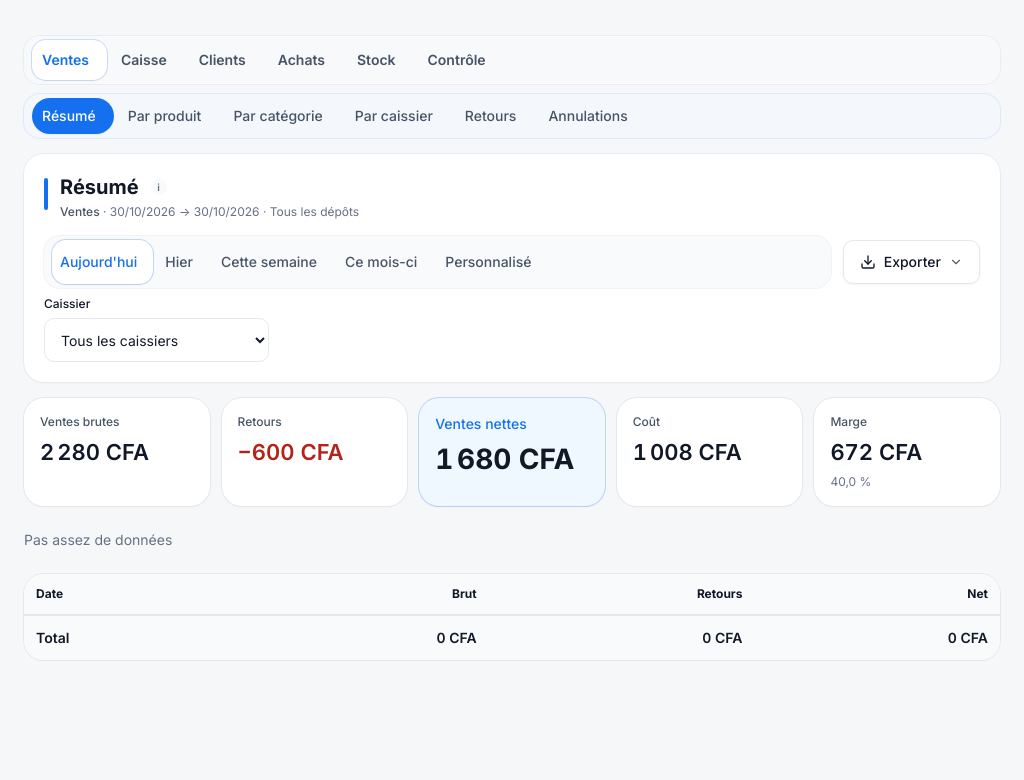
Test: ReportsPage › renders Inventory values after switching tabs
Click the tab "Stock" at (376, 60), box left=343, top=40, right=410, bottom=80
(page scrolled)
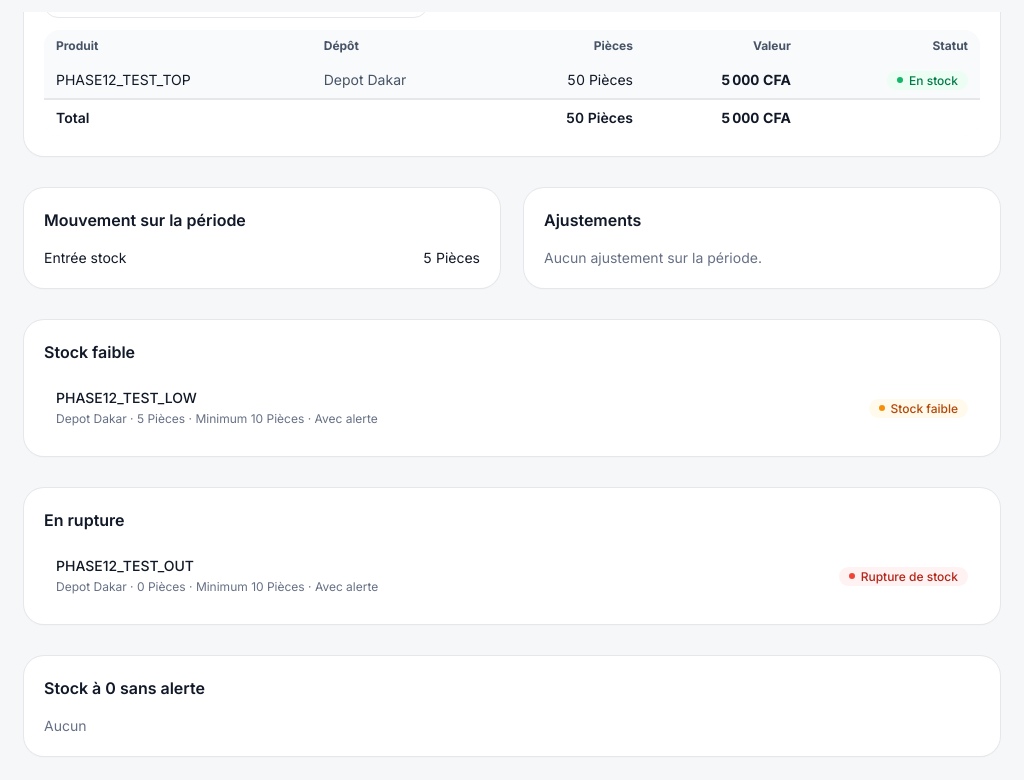
Expected: the text "PHASE12_TEST_LOW" is shown, left=56, top=389, right=197, bottom=406
Expected: the text "PHASE12_TEST_OUT" is shown, left=56, top=557, right=194, bottom=574
